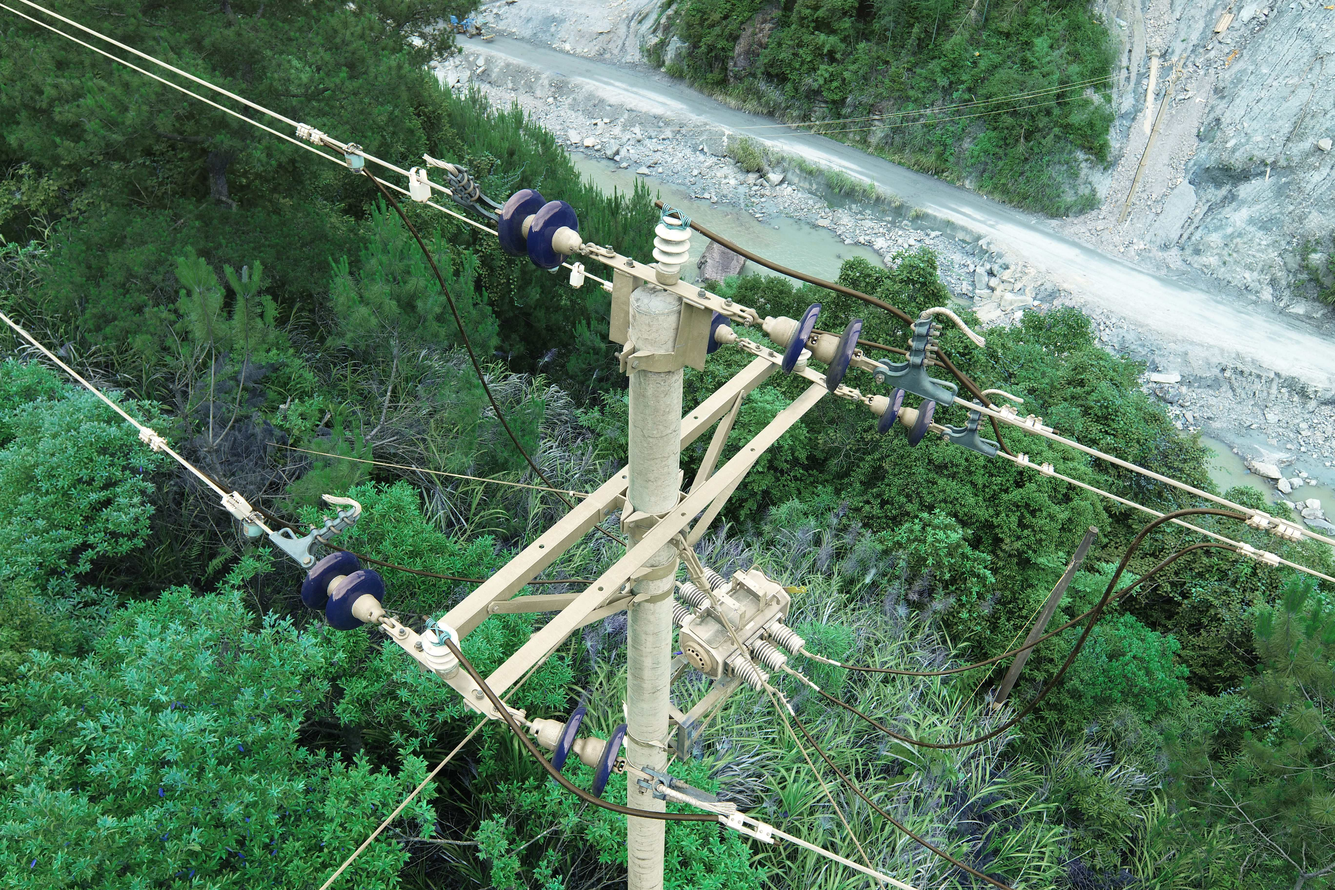severe_soiling_no_discharge_whole: (650, 209, 695, 285)
